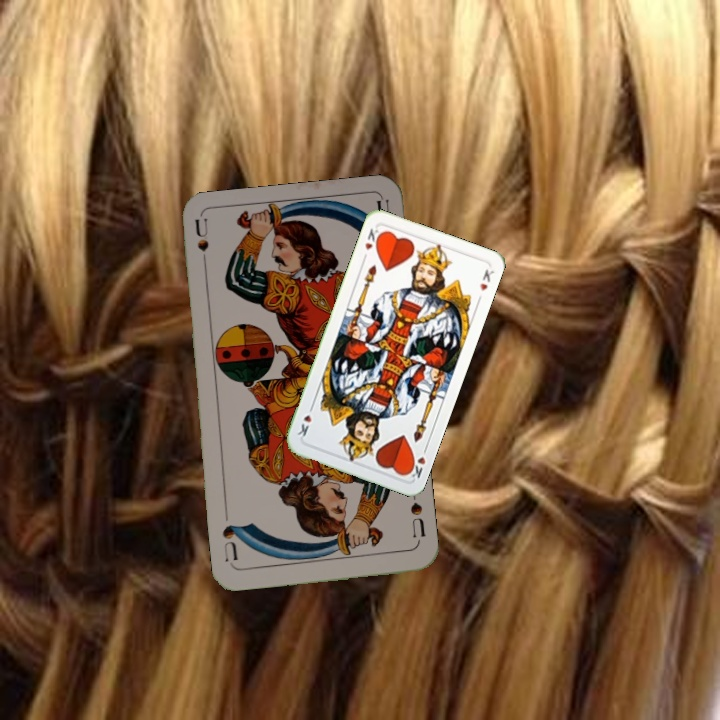HK: (403, 442, 430, 481), (359, 224, 384, 262)
SU: (191, 217, 212, 276), (406, 487, 428, 540)
